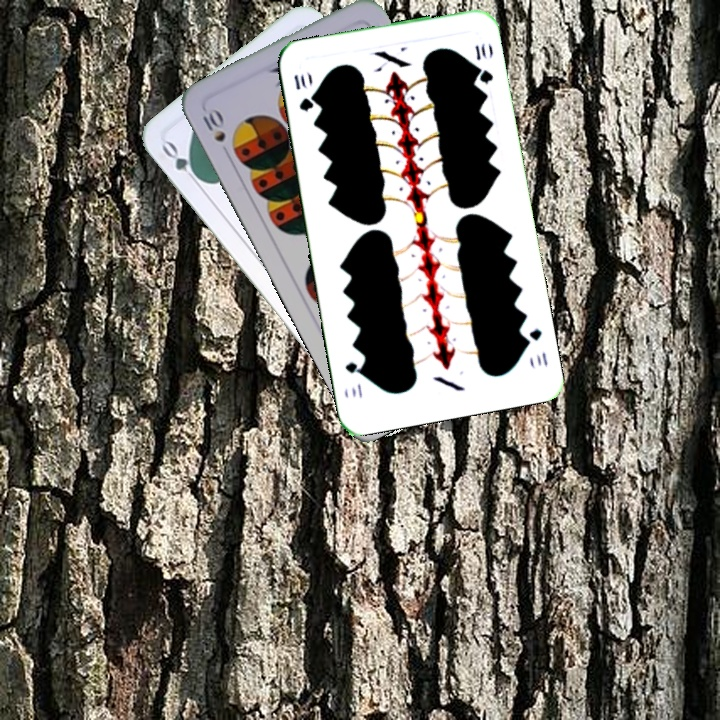G10: (519, 324, 551, 370), (290, 71, 316, 114)
GO: (158, 137, 206, 189)
S10: (196, 104, 233, 160)
